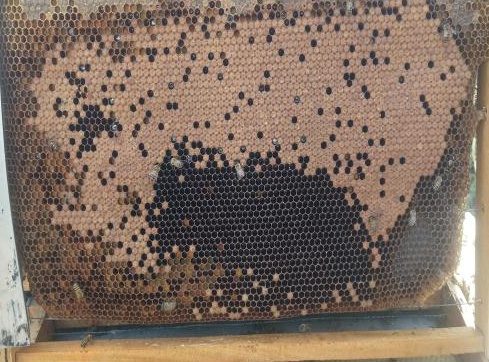cria: (28, 0, 471, 277)
